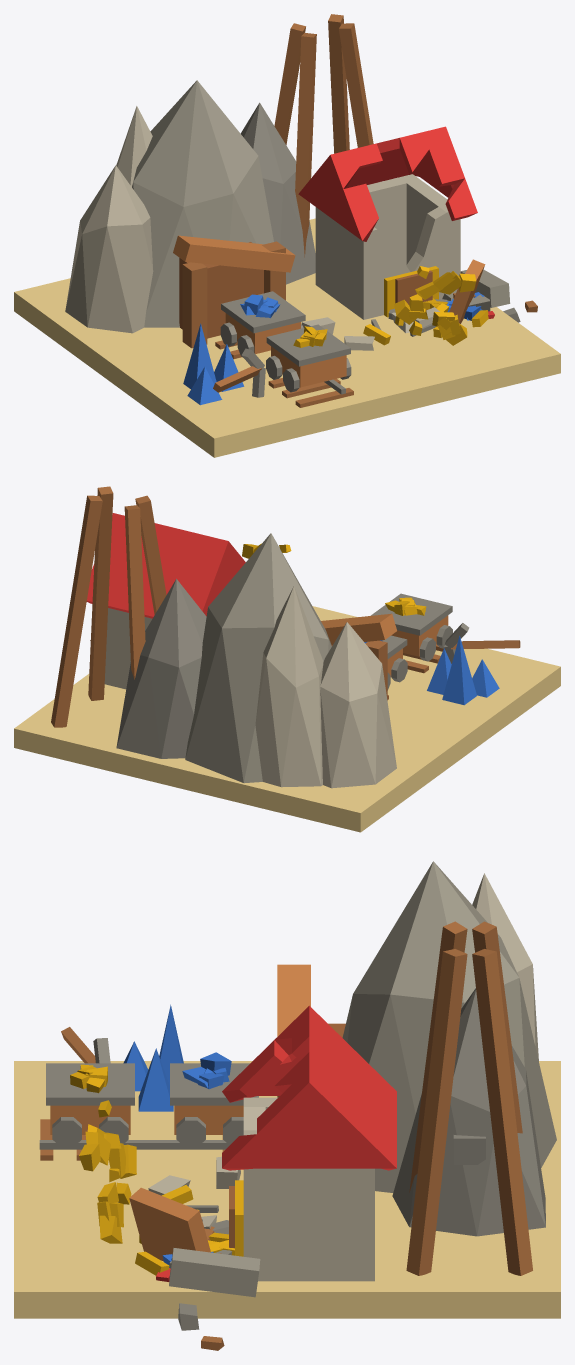
The model's file is mine_t3_v1_dmg1.glb.
The picture shows the model from 3 angles, top to bottom: view 1: azimuth 30°, elevation 25°; view 2: azimuth 150°, elevation 25°; view 3: azimuth 270°, elevation 25°; orthographic projection. The views are drawn at different scales.
Visible parts, largest first — view 1: mine_t3_v1_dmg1; view 2: mine_t3_v1_dmg1; view 3: mine_t3_v1_dmg1.
Boxes of the visible parts, x1,y1,x2,y2 form: mine_t3_v1_dmg1: [14, 14, 560, 457]; mine_t3_v1_dmg1: [14, 486, 560, 832]; mine_t3_v1_dmg1: [14, 861, 560, 1350].
Bounding box in the file's own units: 0.855 × 0.5018 × 0.75.
1 material, 1 textured.
